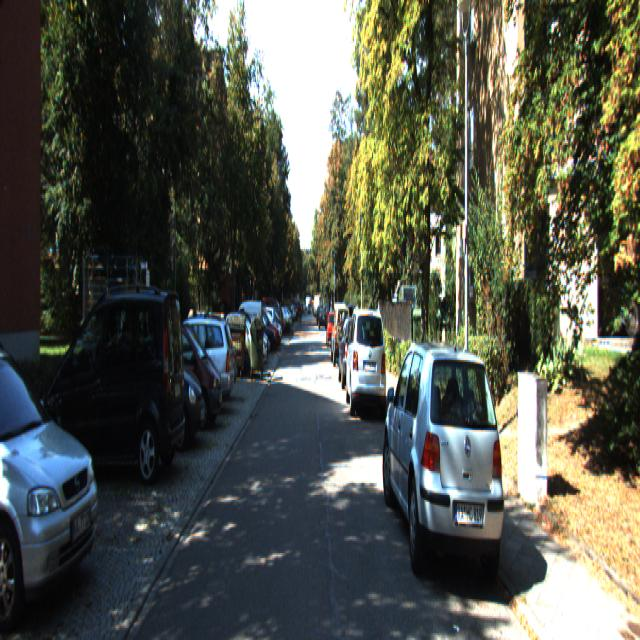Car: (379, 328, 509, 606), (0, 317, 108, 628), (41, 272, 187, 484), (100, 317, 206, 456), (143, 310, 235, 418), (345, 305, 388, 422), (227, 300, 263, 365), (337, 315, 368, 388), (331, 306, 352, 368)
DontCare: (255, 302, 305, 361), (307, 302, 329, 329)
